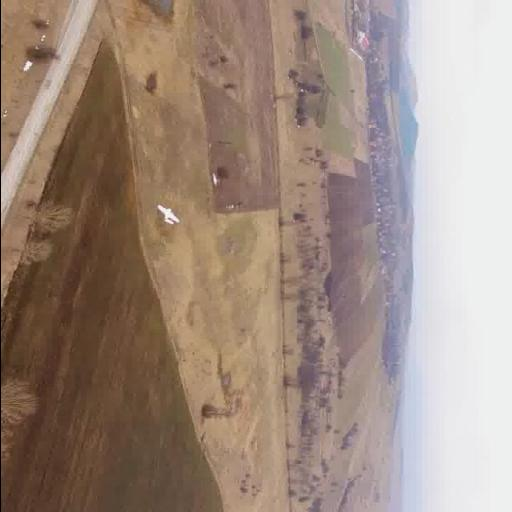uav: (144, 198, 186, 230)
